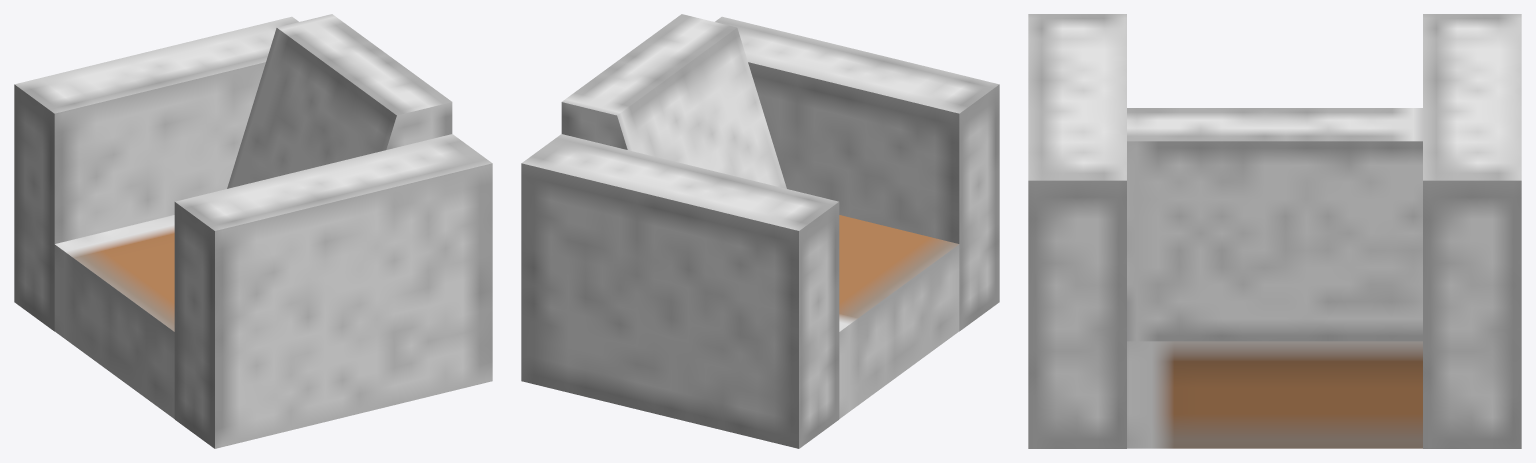
File: armchair.fbx
The picture shows the model from 3 angles, left to right: view 1: azimuth 30°, elevation 25°; view 2: azimuth 150°, elevation 25°; view 3: azimuth 270°, elevation 25°; orthographic projection. The views are drawn at different scales.
Visible parts, largest first — view 1: Chair2; view 2: Chair2; view 3: Chair2.
Boxes of the visible parts, <box> form: Chair2: <box>14,14,492,448</box>; Chair2: <box>521,14,999,448</box>; Chair2: <box>1028,14,1521,448</box>.
Size of the model in its own units: 10 by 8.6 by 12.5.
